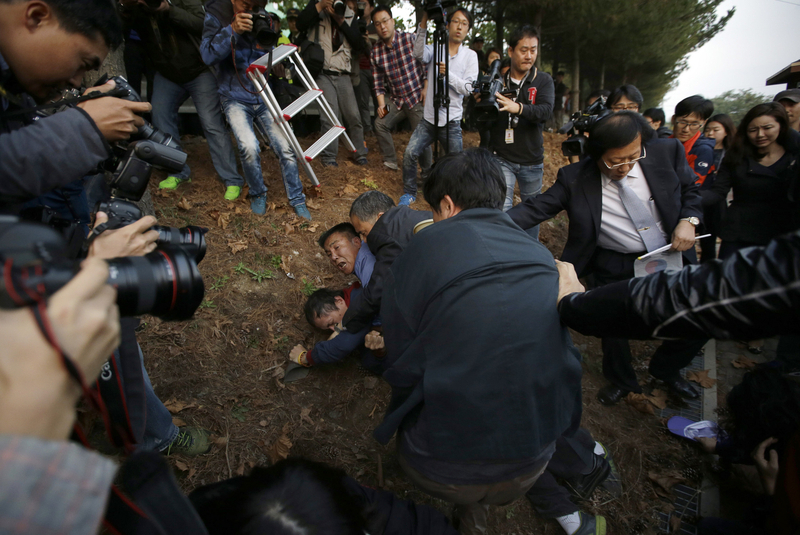10+: (2, 5, 800, 533)
down: (332, 189, 429, 350), (282, 224, 372, 375), (300, 286, 393, 368)
